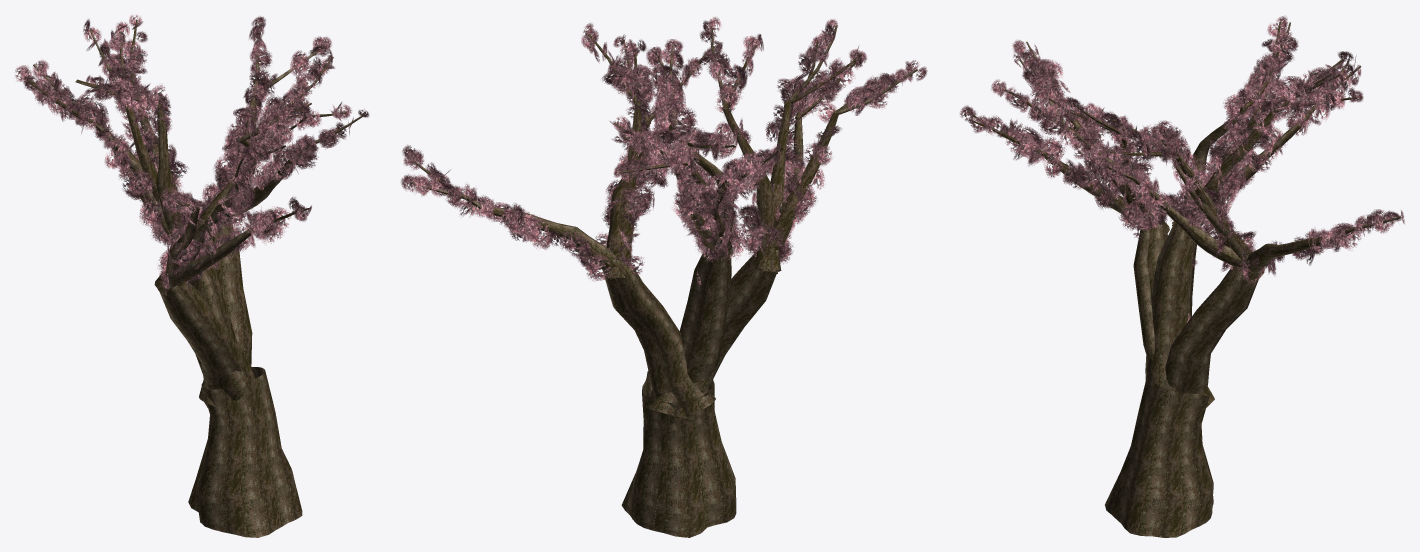
Rendered from blossom_3x_1.glb.
3 renders of one model, left to right at view 1: azimuth 30°, elevation 25°; view 2: azimuth 150°, elevation 25°; view 3: azimuth 270°, elevation 25°, orthographic. The views are drawn at different scales.
Visible parts, largest first — view 1: blossom; view 2: blossom; view 3: blossom.
Boxes of the visible parts, <box> form: blossom: <box>15,15,369,537</box>; blossom: <box>400,17,927,537</box>; blossom: <box>960,15,1404,537</box>.
Size of the model in its own units: 38.73 by 48.83 by 45.67.
Materials: 2 (2 with a texture image).
